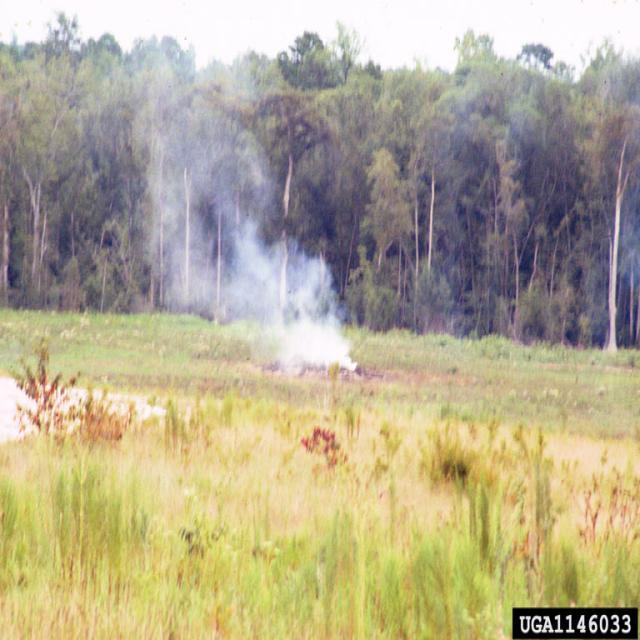Smoke: (130, 54, 360, 380)
